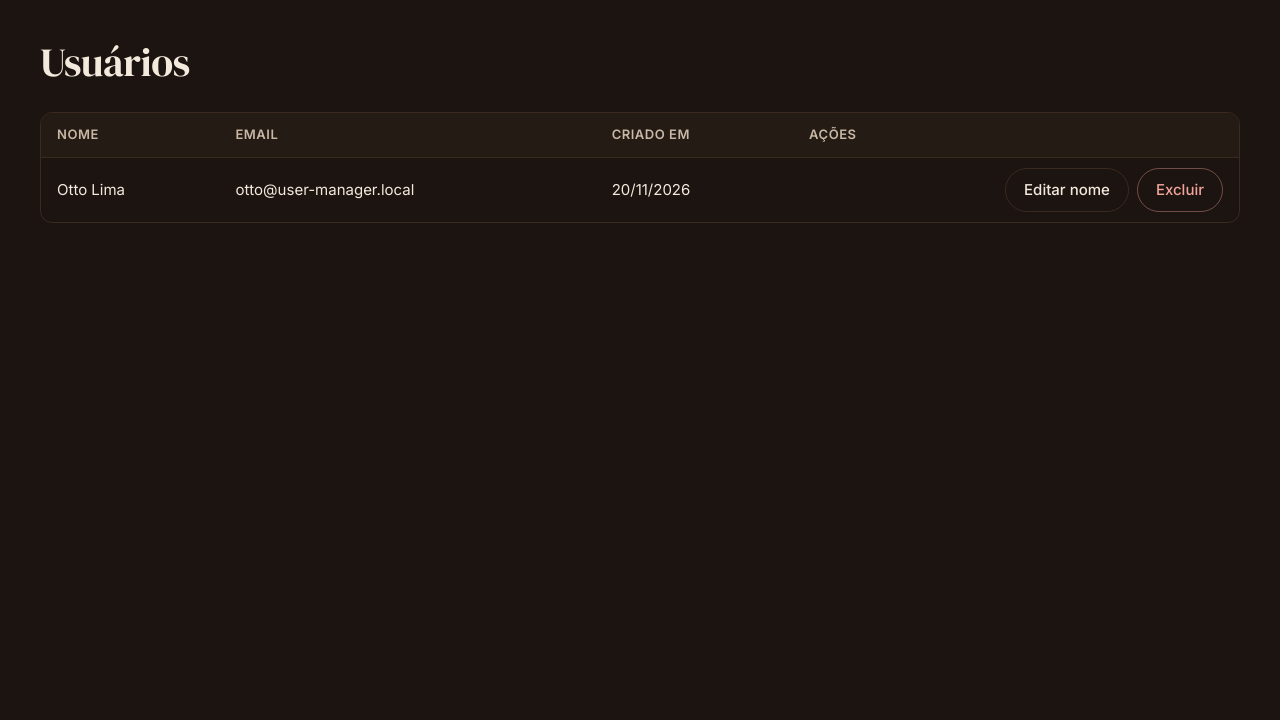
UsersPage › UsersPage_DeleteFails_ShowsWarningAndKeepsUser
Click the button with aria-label "Excluir Otto Lima".
click(1180, 190)  # box [1137,168,1223,212]
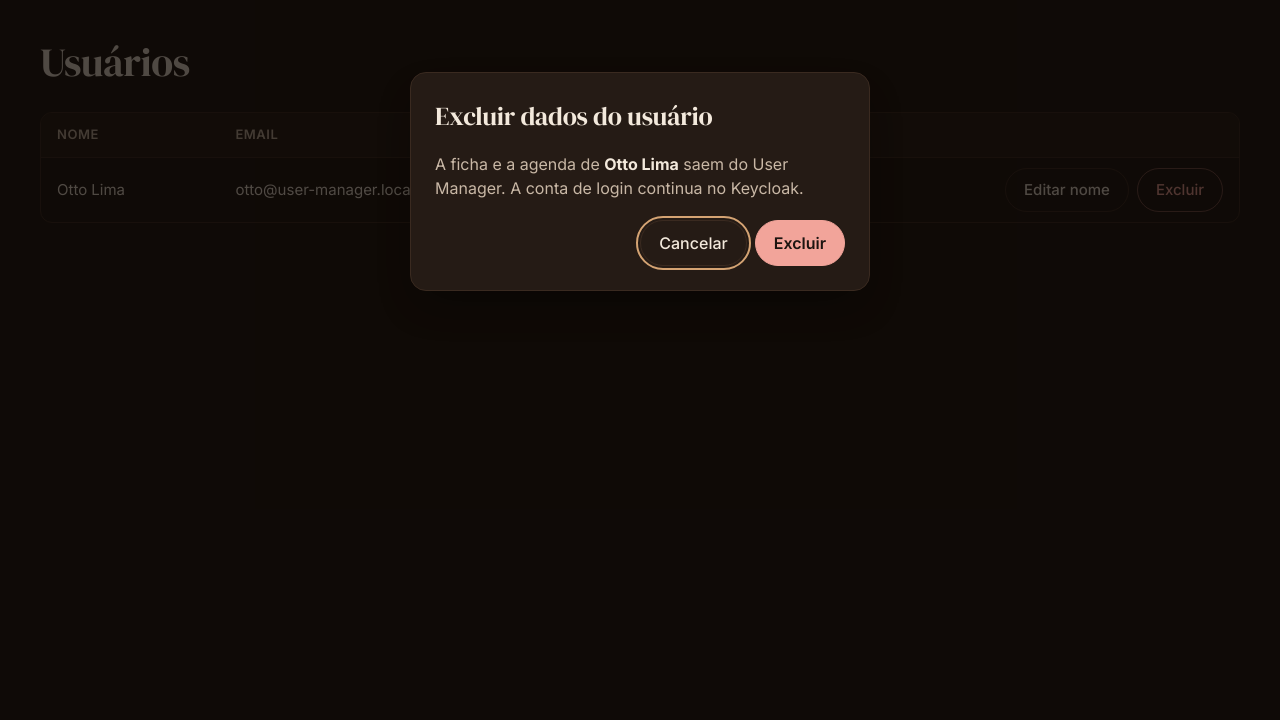
Click the button "Excluir".
click(800, 243)  # box [755,220,845,266]
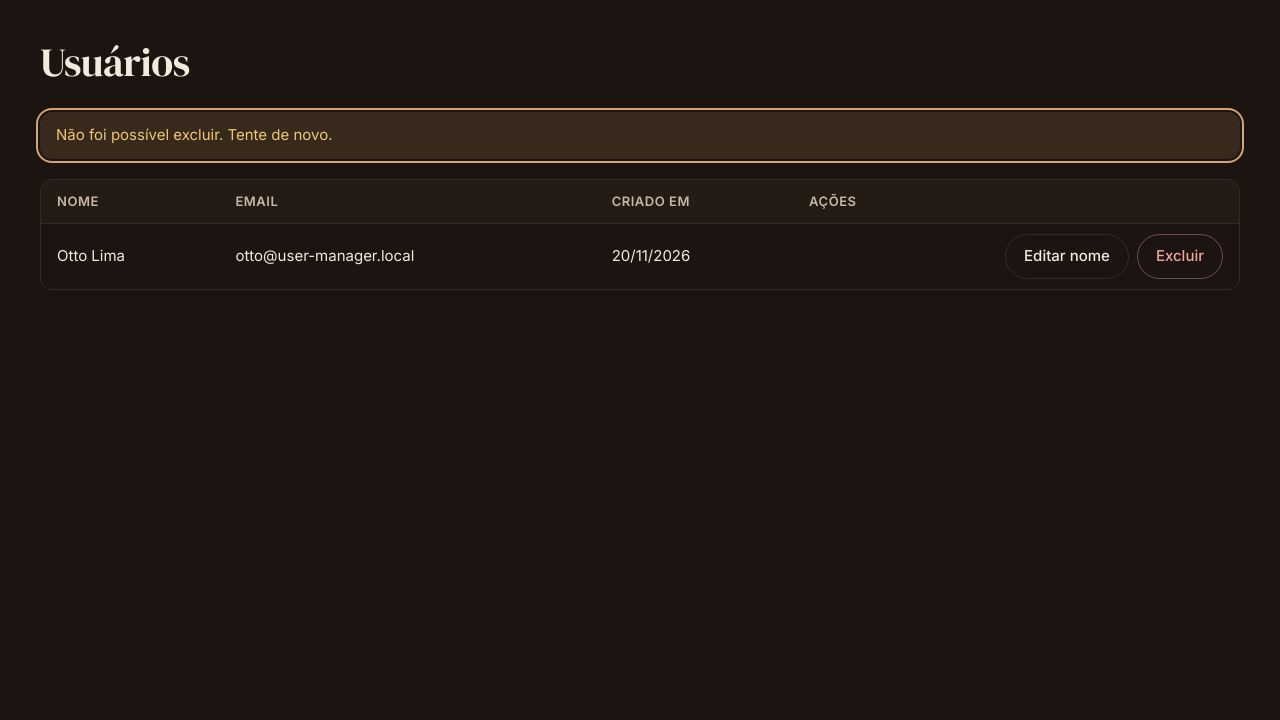
Expected: the text "Otto Lima" is shown, [41,224,220,288]
Expected: the message reads "Não foi possível excluir. Tente de novo.", [56,125,332,144]
